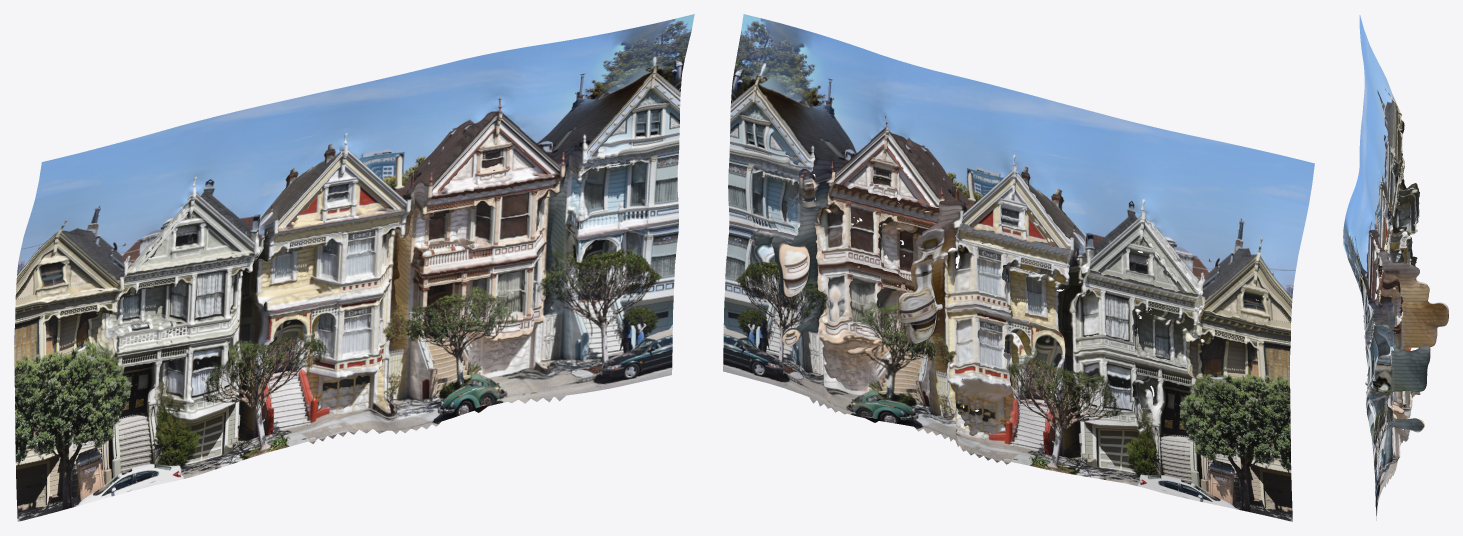
3 views of the same model, side by side, from view 1: azimuth 30°, elevation 25°; view 2: azimuth 150°, elevation 25°; view 3: azimuth 270°, elevation 25° (orthographic). The views are drawn at different scales.
Parts seen in each view (by area): view 1: Object_2, Object_4, Object_3; view 2: Object_2, Object_4, Object_3; view 3: Object_2, Object_4, Object_3.
Part boxes in pixels (left/top/right/bottom): Object_2: left=14, top=14, right=694, bottom=521; Object_4: left=23, top=65, right=681, bottom=490; Object_3: left=123, top=19, right=673, bottom=457; Object_2: left=732, top=14, right=1303, bottom=521; Object_4: left=723, top=74, right=1314, bottom=497; Object_3: left=762, top=18, right=1203, bottom=473; Object_2: left=1343, top=60, right=1448, bottom=440; Object_4: left=1358, top=15, right=1430, bottom=520; Object_3: left=1343, top=131, right=1434, bottom=419.
Bounding box in the file's own units: 0.7055 × 0.4023 × 0.137.
Materials: 1 (1 with a texture image).
